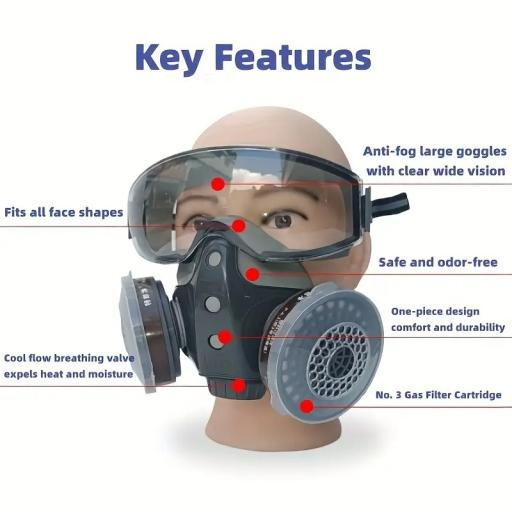mask: (113, 256, 388, 431)
